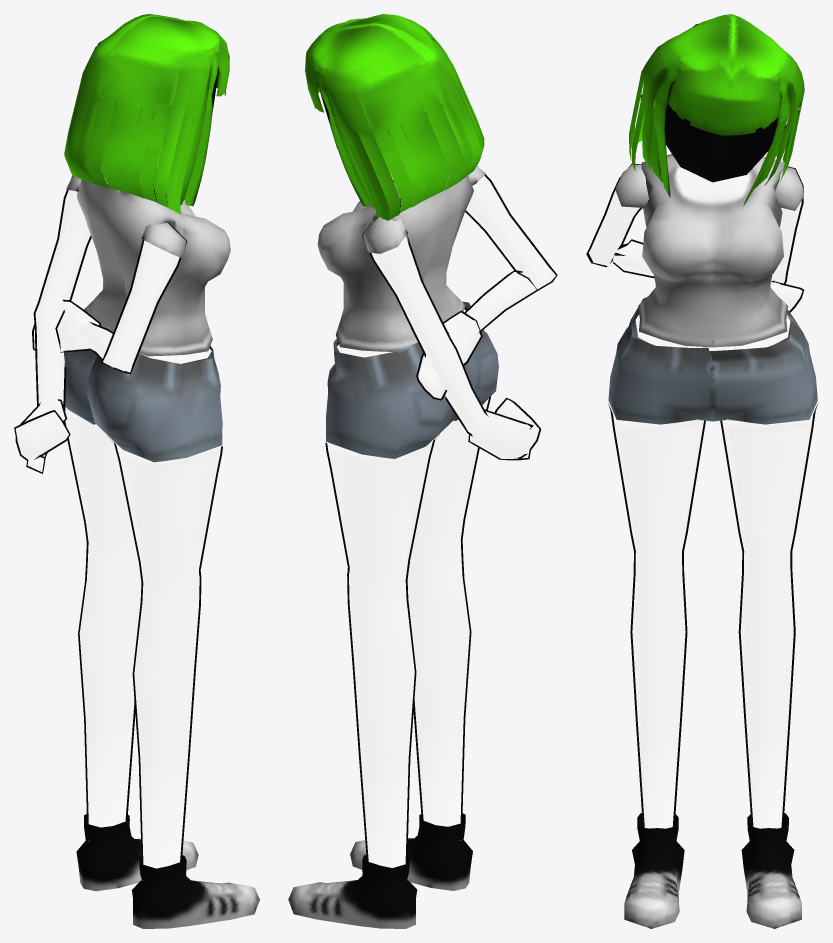
The model's file is anime_girl_grey.glb.
3 renders of one model, left to right at view 1: azimuth 30°, elevation 25°; view 2: azimuth 150°, elevation 25°; view 3: azimuth 270°, elevation 25°, orthographic.
Visible parts, largest first — view 1: Cube.129; view 2: Cube.129; view 3: Cube.129.
Boxes of the visible parts, <box> form: Cube.129: <box>14,14,259,928</box>; Cube.129: <box>288,14,557,928</box>; Cube.129: <box>586,14,818,928</box>.
Size of the model in its own units: 3.85 by 14.78 by 3.56.
4 materials, 3 textured.
